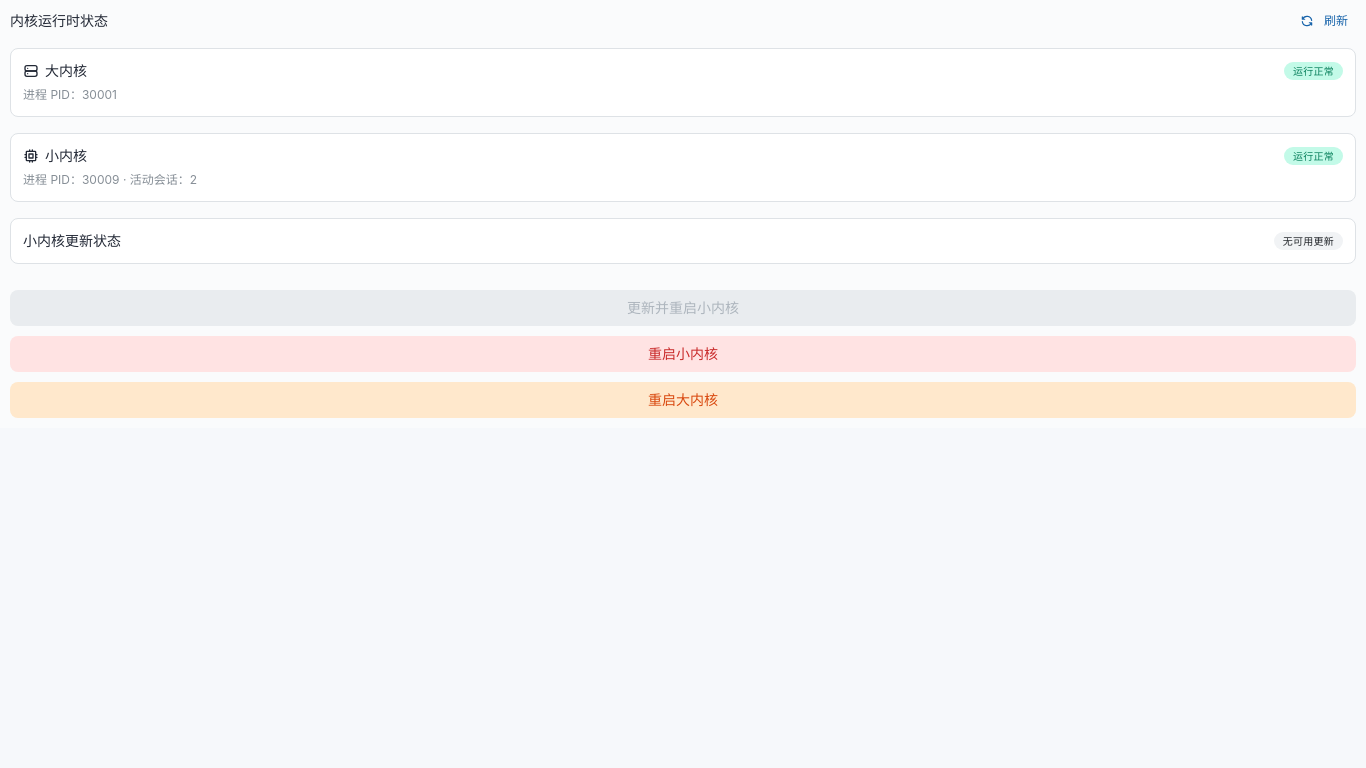
Test: KernelManagementPanel › polls operation and shows inline error on failure without reporting success
Click the button "重启小内核": x=683, y=354 10,336 -> 1356,372
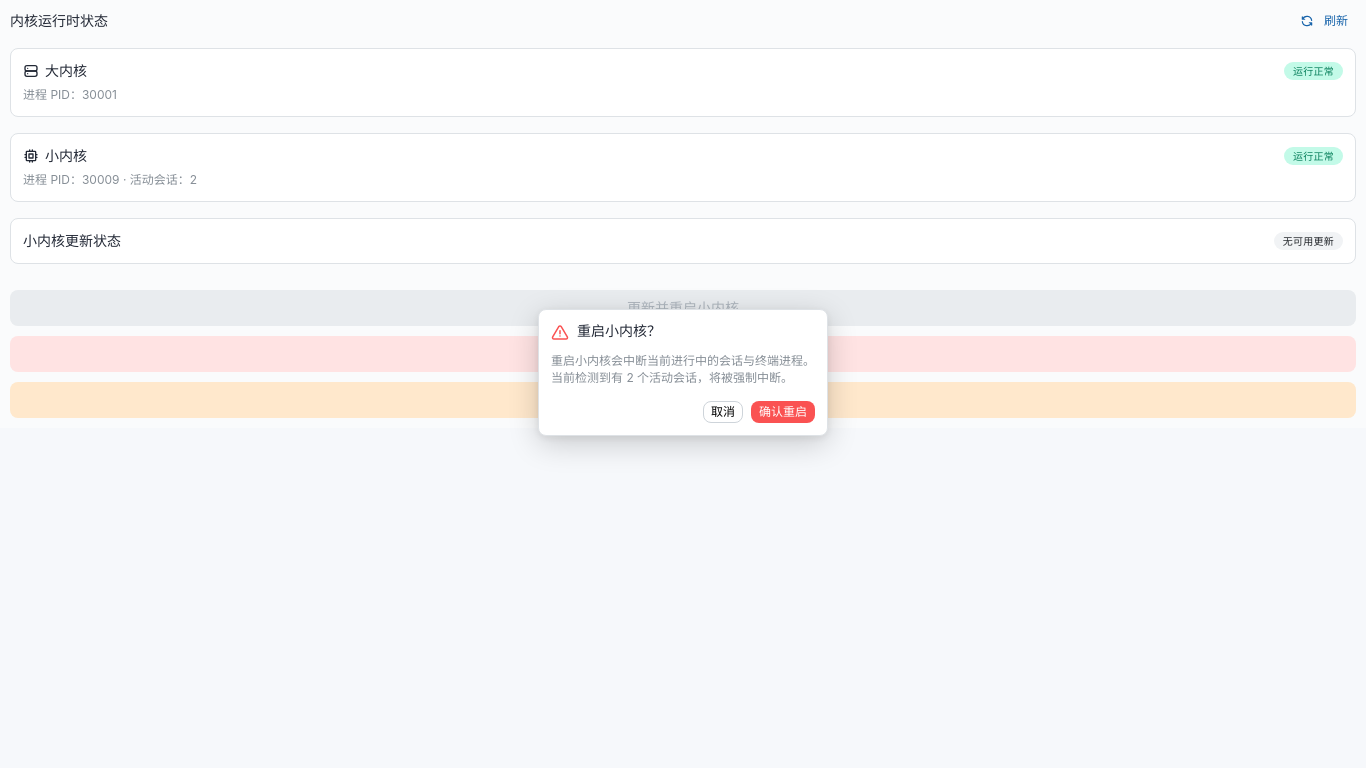
Click the button "确认重启": x=783, y=412 751,401 -> 815,423
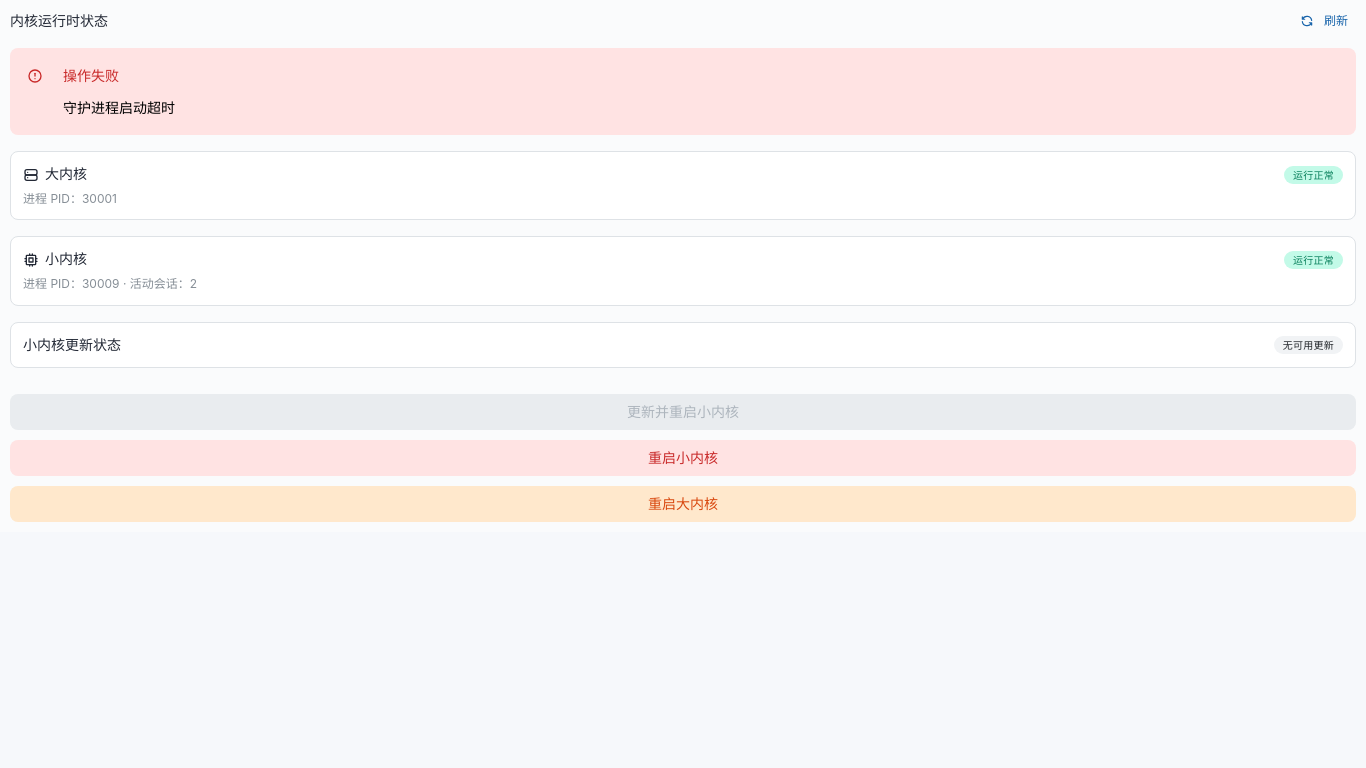
Check: the message shows "守护进程启动超时", box 63,99 -> 175,116
